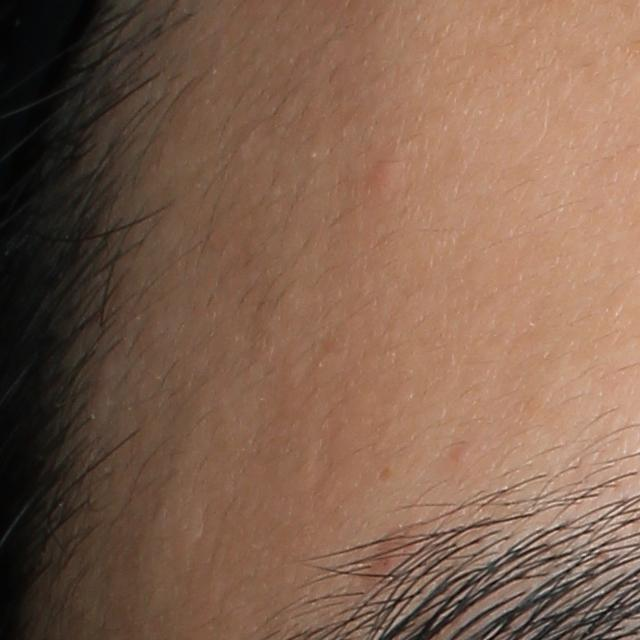papule: (369, 155, 401, 189)
